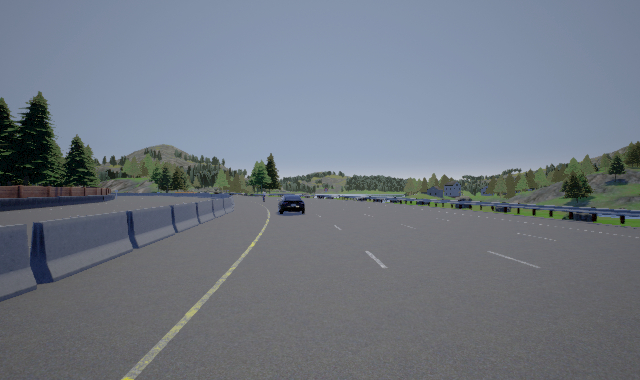vehicle: (278, 195, 305, 214)
